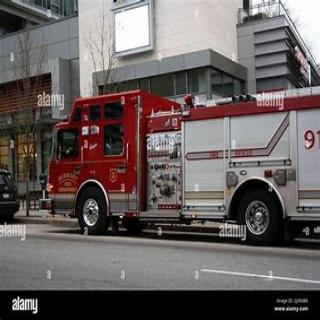Fire_truck: (44, 84, 319, 245)
